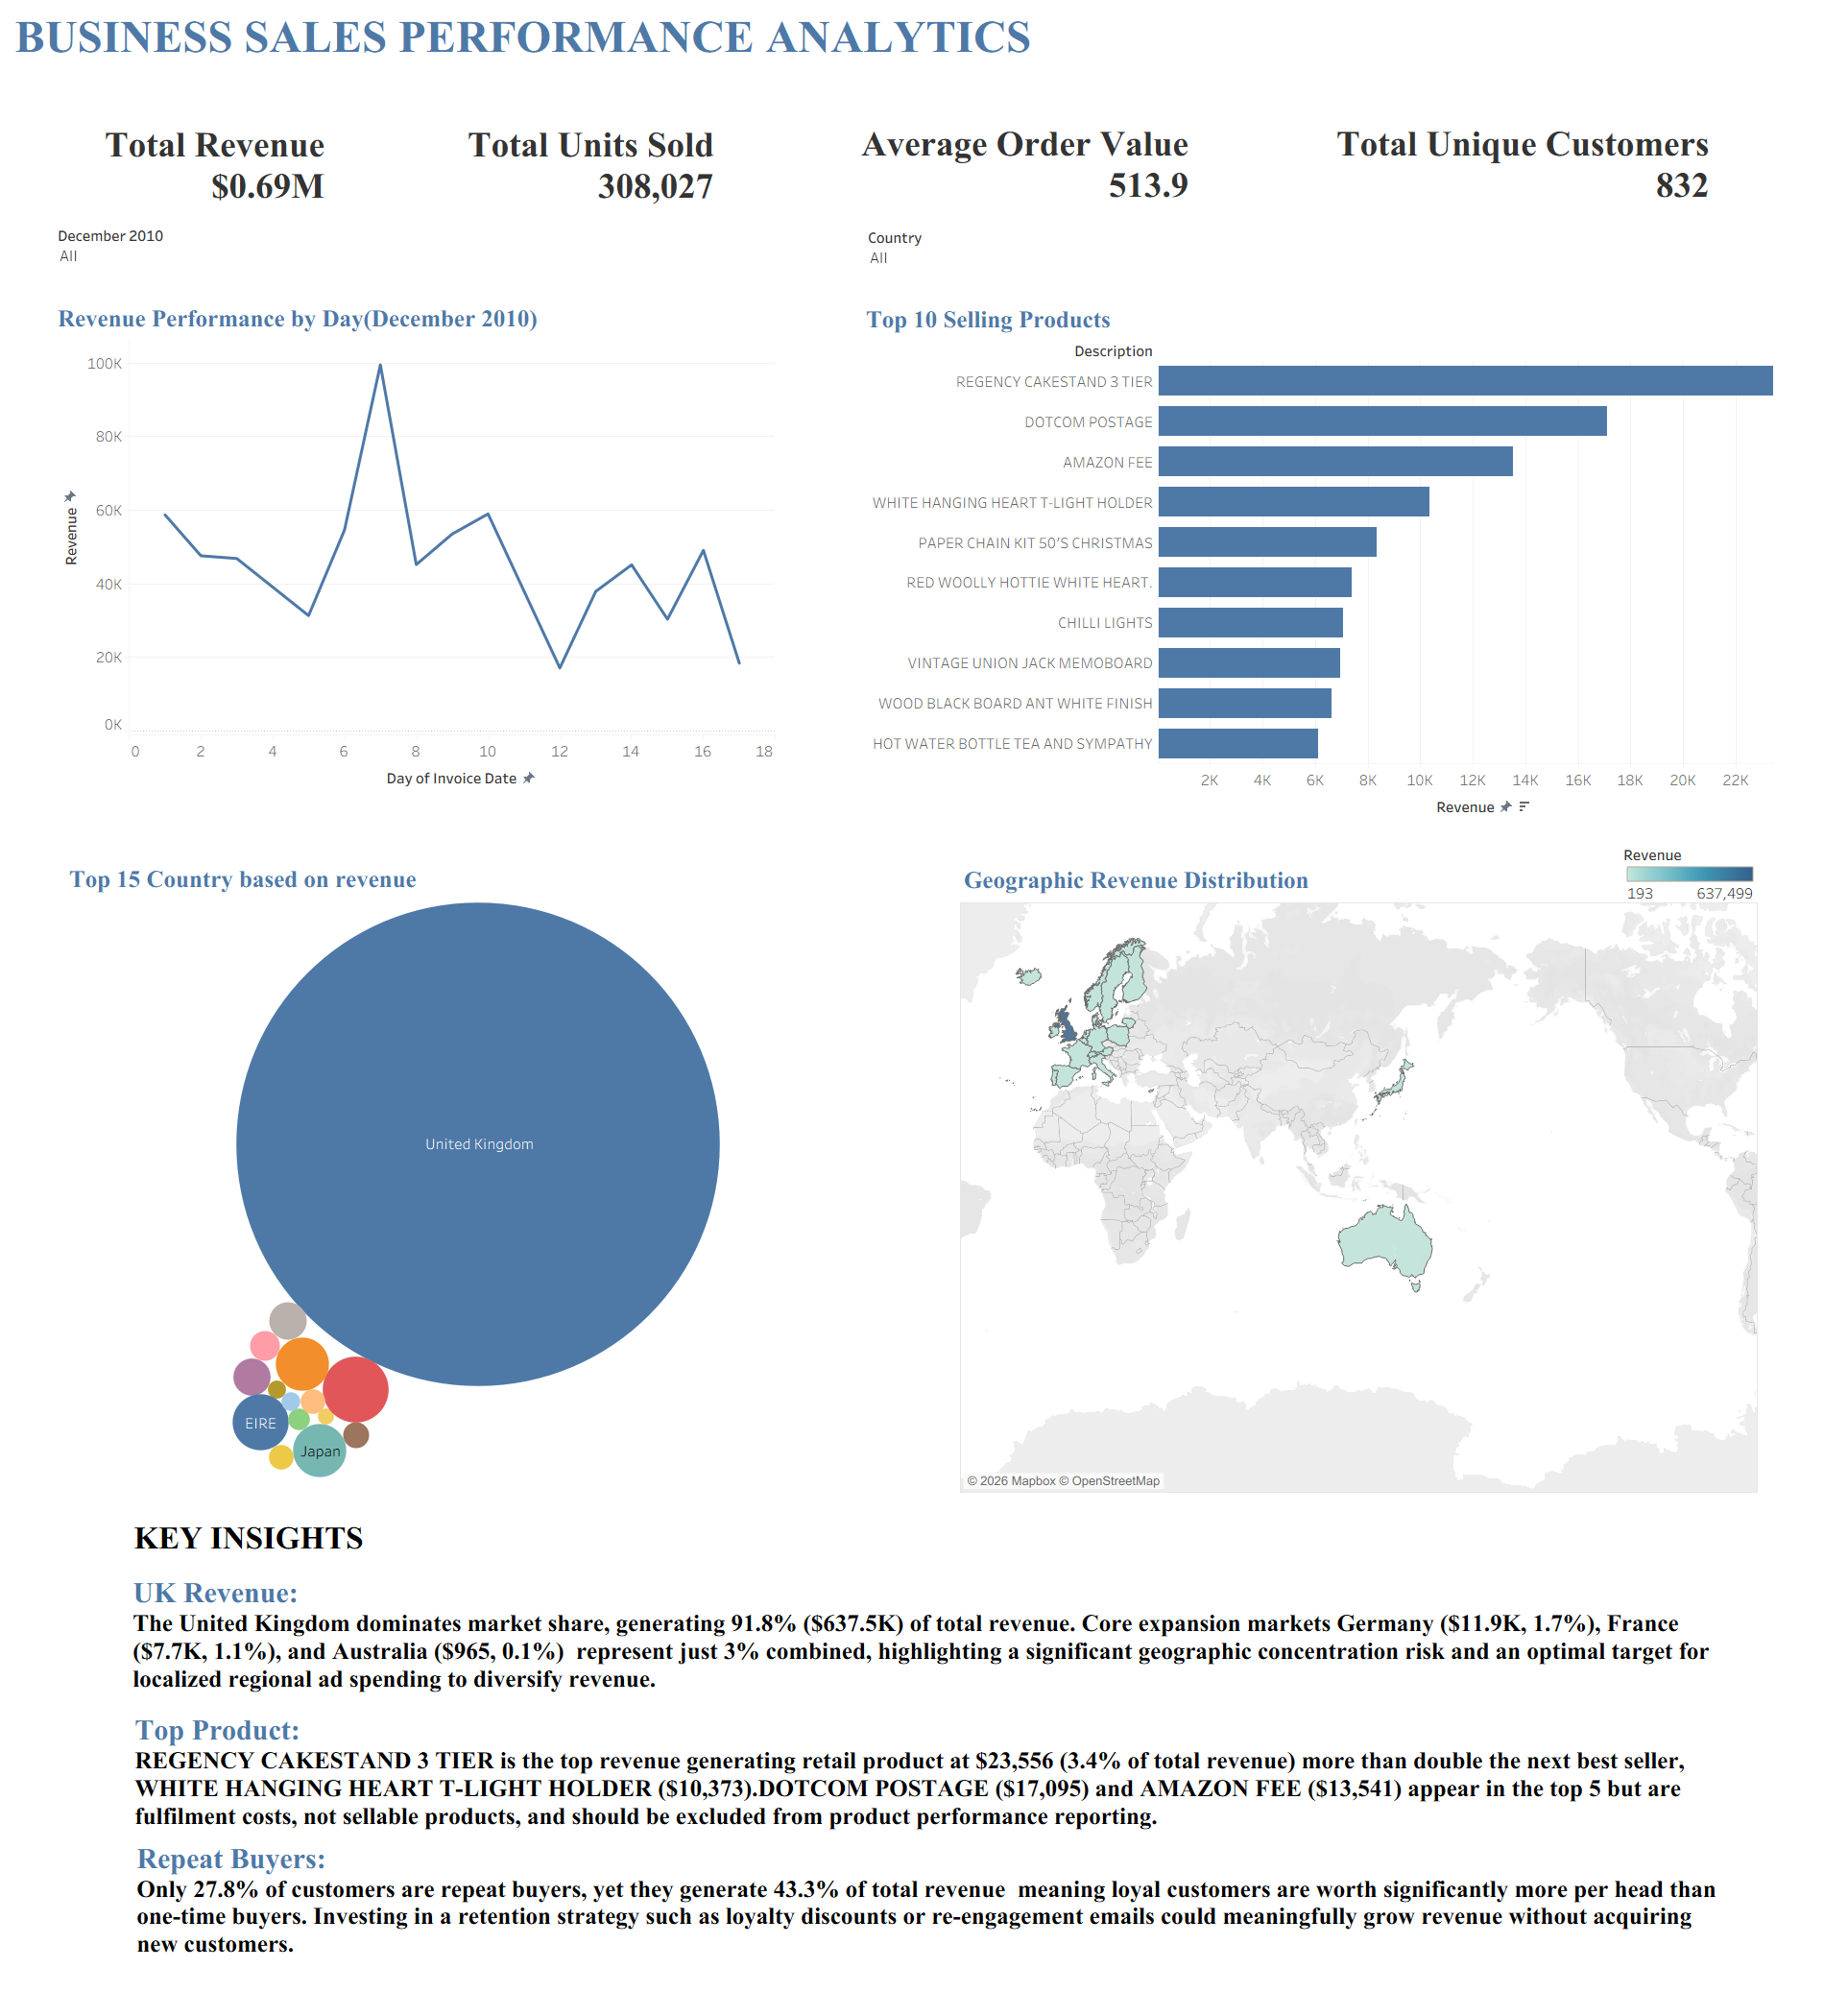

Layout of this report page (visuals, bound fields, positions):
{"tool":"tableau","page":{"name":"Dashboard 1","canvas":[1900,2100],"ordinal":0},"visuals":[{"type":"title","box":[8,8,1884,105]},{"type":"worksheet","title":"Sheet 3","mark":"Automatic","box":[883,115,421,299]},{"type":"worksheet","title":"Sheet 4","mark":"Automatic","box":[1385,115,436,346]},{"type":"worksheet","title":"Sheet 1","mark":"Automatic","box":[103,116,298,348]},{"type":"worksheet","title":"Sheet 2","mark":"Automatic","box":[468,116,353,368]},{"type":"filter","title":"Sheet 5","param":"[federated.0m8ysqd1lhs8id1afu5eq18b86sk].[dy:InvoiceDate:ok]","box":[60,234,662,74]},{"type":"filter","title":"Sheet 7","param":"[federated.0m8ysqd1lhs8id1afu5eq18b86sk].[none:Country:nk]","box":[904,236,939,72]},{"type":"worksheet","title":"Sheet 5","mark":"Automatic","rows":["Revenue"],"cols":["InvoiceDate"],"box":[56,312,751,516]},{"type":"worksheet","title":"Sheet 6","mark":"Automatic","rows":["Description"],"cols":["Revenue"],"box":[898,313,949,545]},{"type":"legend","title":"Sheet 7","param":"[federated.0m8ysqd1lhs8id1afu5eq18b86sk].[sum:Revenue:qk]","box":[1691,876,140,70]},{"type":"worksheet","title":"Sheet 8","mark":"Automatic","rows":["Revenue"],"cols":["Country"],"box":[68,896,856,643]},{"type":"worksheet","title":"Sheet 7","mark":"Multipolygon","box":[1000,897,831,658]},{"type":"text","box":[47,1603,864,270]},{"type":"text","box":[954,1617,906,256]},{"type":"text","box":[399,1903,997,178]}]}

Visuals, with their boxes in screenshot pixels (x1, y1, x2, y2), scaled from the page's 1900x2100 canvas onto the 1824x2016 screenshot:
title: box=[8, 8, 1816, 108]
"Sheet 3" worksheet: box=[848, 110, 1252, 397]
"Sheet 4" worksheet: box=[1330, 110, 1748, 443]
"Sheet 1" worksheet: box=[99, 111, 385, 445]
"Sheet 2" worksheet: box=[449, 111, 788, 465]
"Sheet 5" filter: box=[58, 225, 693, 296]
"Sheet 7" filter: box=[868, 227, 1769, 296]
"Sheet 5" worksheet: box=[54, 300, 775, 795]
"Sheet 6" worksheet: box=[862, 300, 1773, 824]
"Sheet 7" legend: box=[1623, 841, 1758, 908]
"Sheet 8" worksheet: box=[65, 860, 887, 1477]
"Sheet 7" worksheet (Multipolygon marks): box=[960, 861, 1758, 1493]
text: box=[45, 1539, 875, 1798]
text: box=[916, 1552, 1786, 1798]
text: box=[383, 1827, 1340, 1998]
